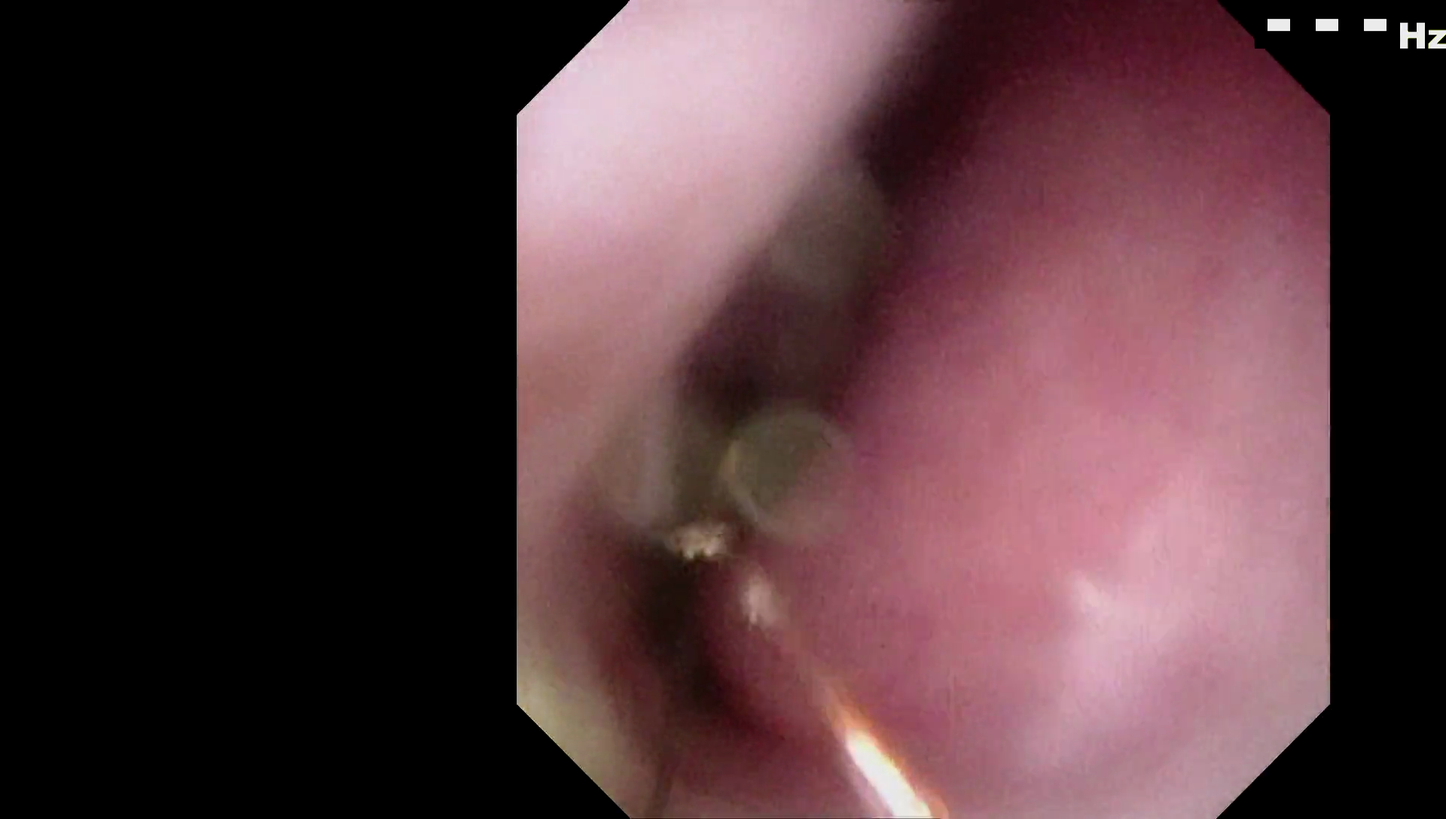next: (581, 485, 794, 759), (859, 23, 1017, 208)
